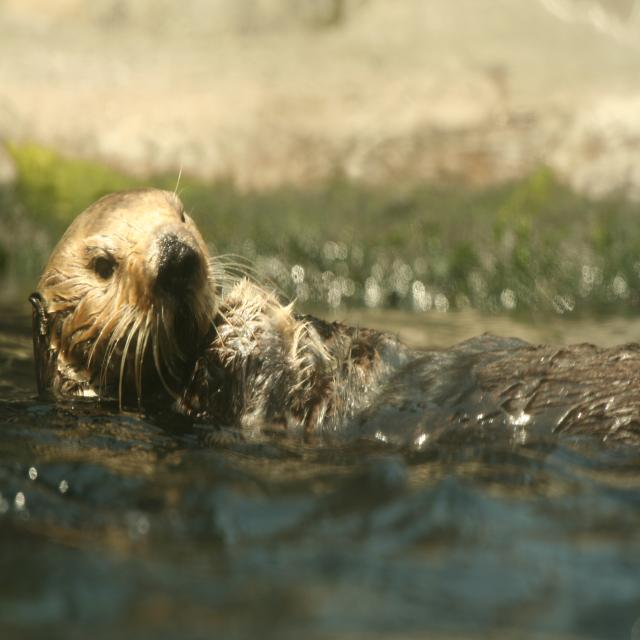otter: (32, 186, 640, 434)
